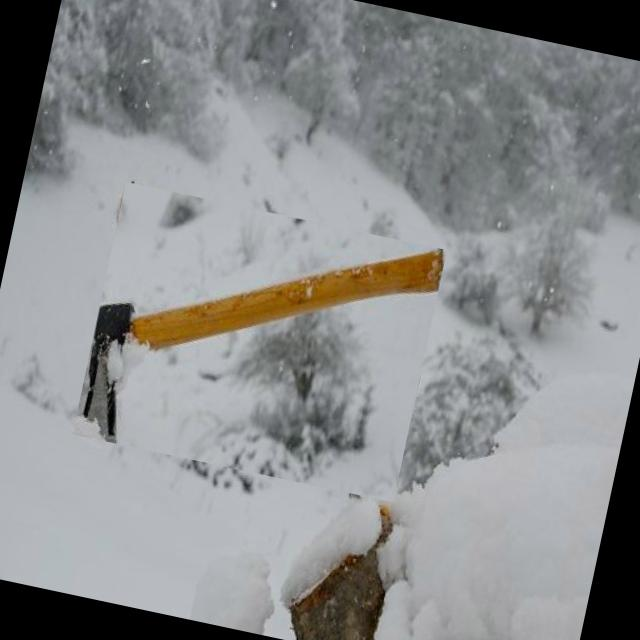Axe: (83, 249, 443, 443)
